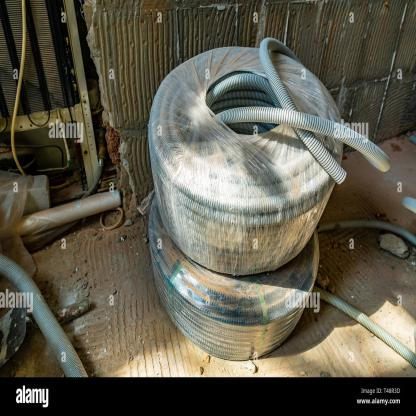PVC: (148, 36, 416, 367), (1, 254, 89, 378)
